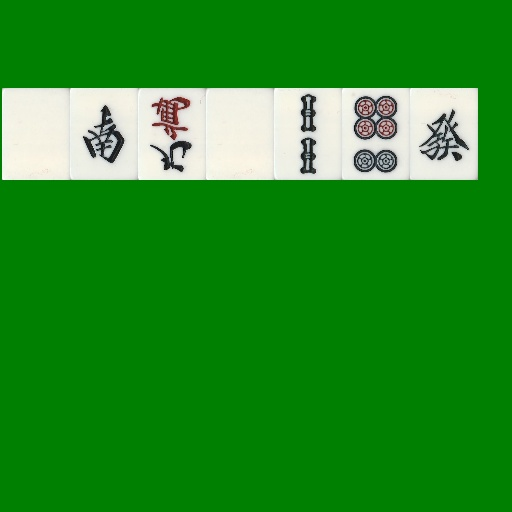2s: (274, 88, 342, 180)
6p: (342, 88, 410, 180)
9m: (138, 88, 206, 180)
hatsu: (410, 88, 478, 180)
south: (70, 88, 138, 180)
white: (2, 88, 70, 180), (206, 88, 274, 180)
